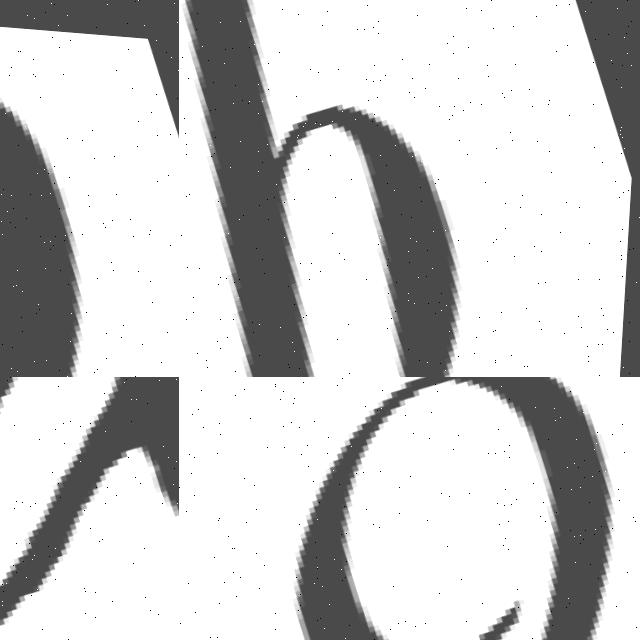9: (179, 377, 640, 640), (0, 0, 179, 377)
B: (179, 0, 466, 377)
X: (0, 377, 179, 640)
